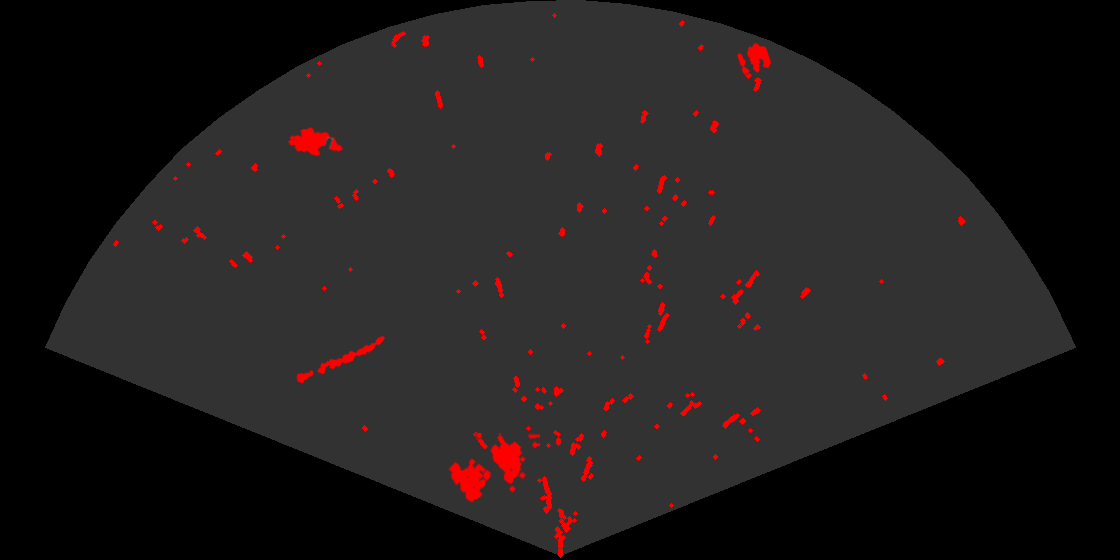AUV: (286, 126, 345, 158)
ball: (736, 42, 773, 76)
cage: (447, 433, 540, 504)
chain: (294, 334, 387, 385)
